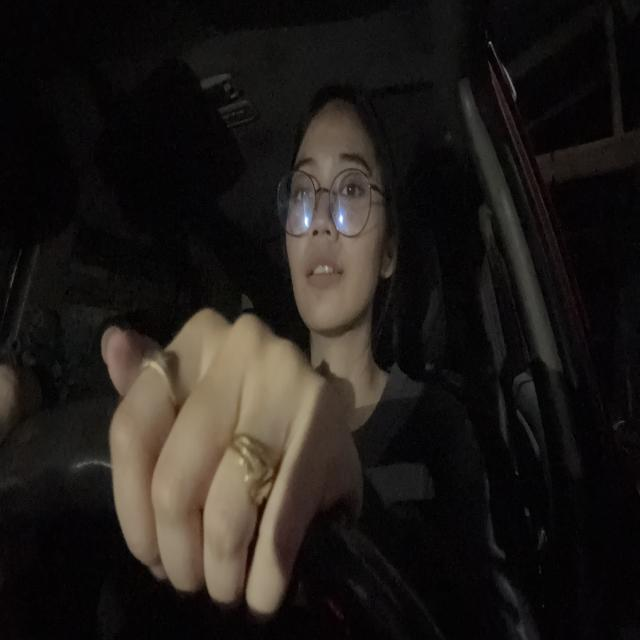open: (334, 146, 377, 210), (288, 155, 320, 217)
